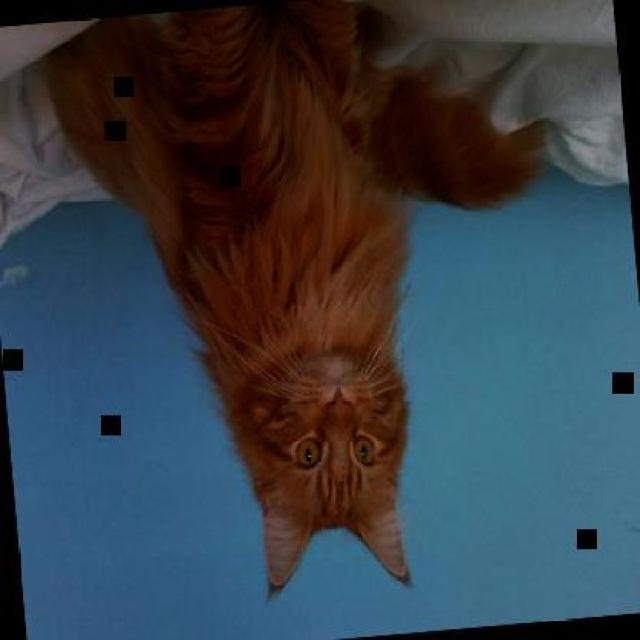cat: (52, 0, 575, 612)
